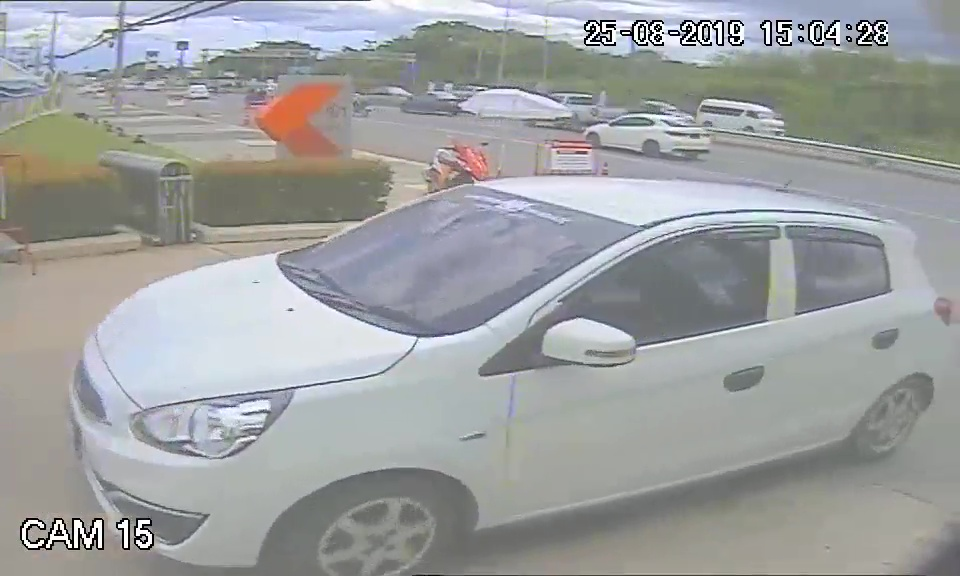sedan: (68, 177, 951, 561)
